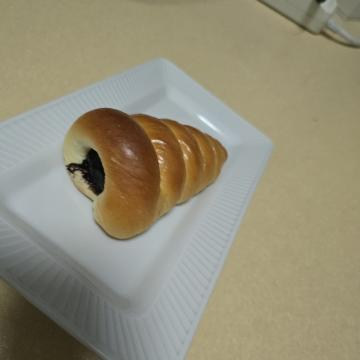cream horn: (93, 121, 257, 315)
